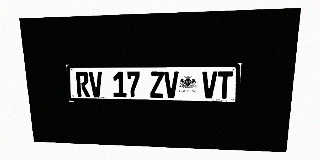1: (112, 72, 127, 97)
7: (126, 72, 140, 98)
R: (75, 72, 90, 97)
T: (217, 71, 233, 99)
V: (202, 71, 217, 98), (164, 71, 178, 98), (89, 72, 103, 97)
Z: (150, 71, 164, 98)
